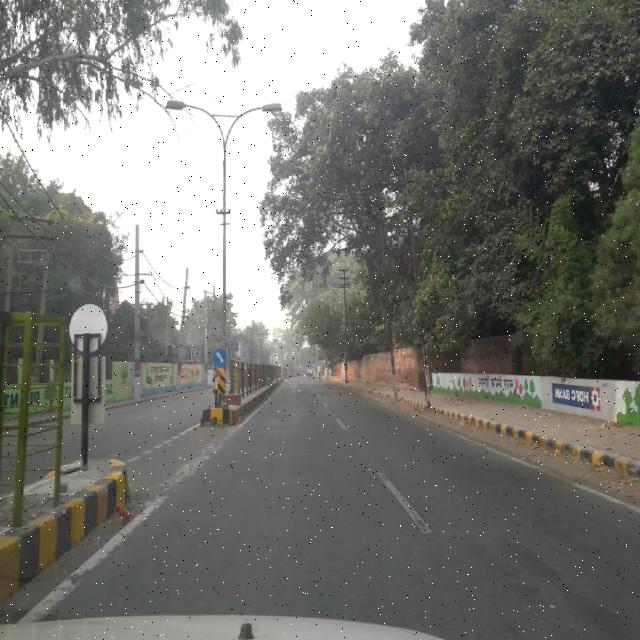D44: (52, 543, 128, 610), (370, 465, 440, 537), (164, 426, 240, 492)
